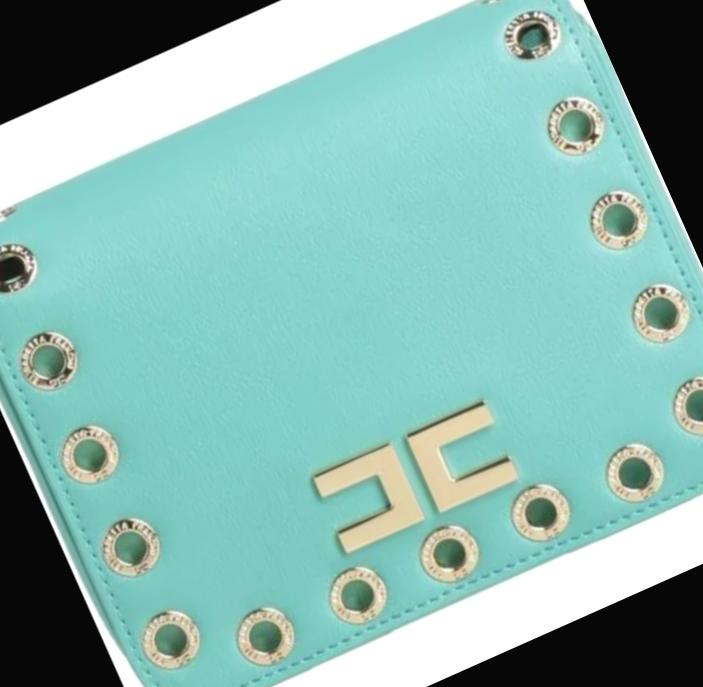ELISABETTA-FRANCHI: (291, 381, 537, 568)
